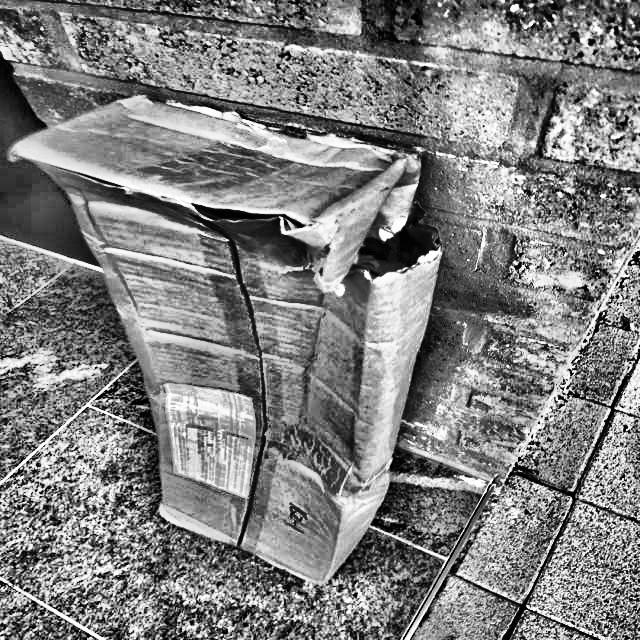box: (4, 85, 461, 599)
hole: (341, 196, 439, 280)
